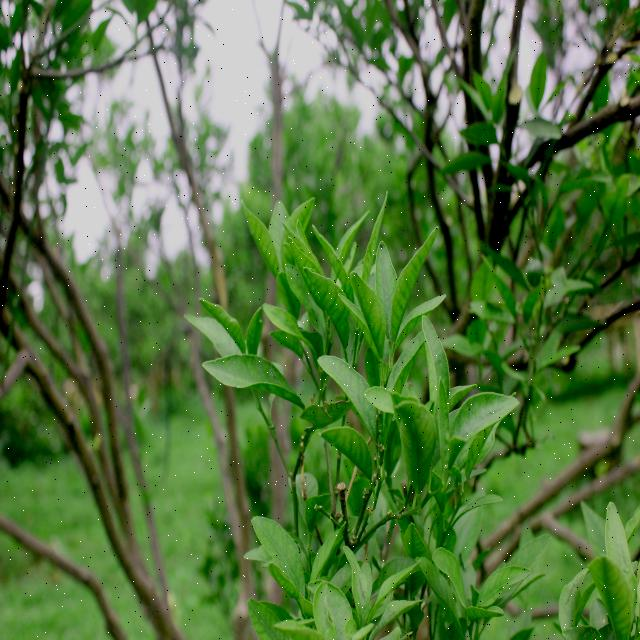greening: (389, 230, 436, 338), (397, 402, 437, 492), (594, 558, 631, 640), (353, 276, 382, 358), (310, 269, 346, 329), (327, 425, 372, 473), (250, 204, 274, 266), (292, 225, 314, 273)
